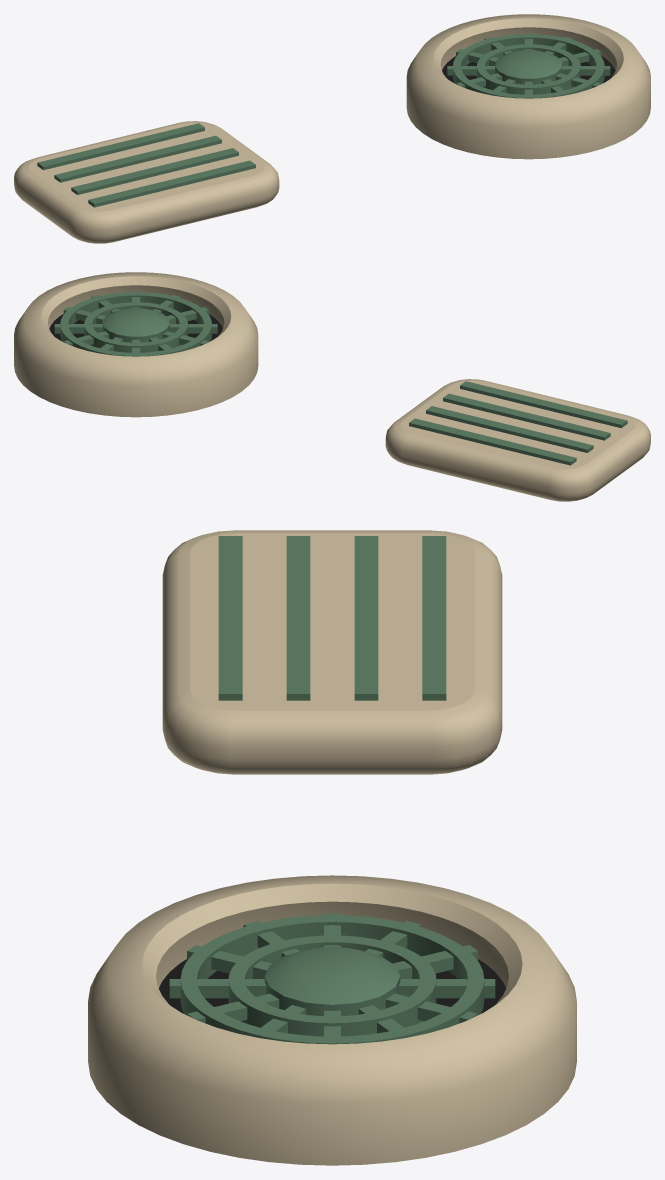
File: t10_fan.obj
3 views of the same model, one above another, from view 1: azimuth 30°, elevation 25°; view 2: azimuth 150°, elevation 25°; view 3: azimuth 270°, elevation 25° (orthographic). The views are drawn at different scales.
Parts seen in each view (by area): view 1: t10_fan; view 2: t10_fan; view 3: t10_fan.
Part boxes in pixels (box(x1,y1,x2,y2)): t10_fan: box(14, 14, 650, 243); t10_fan: box(14, 272, 650, 501); t10_fan: box(88, 530, 576, 1165).
Bounding box in the file's own units: 2.01 × 0.16 × 0.72.
